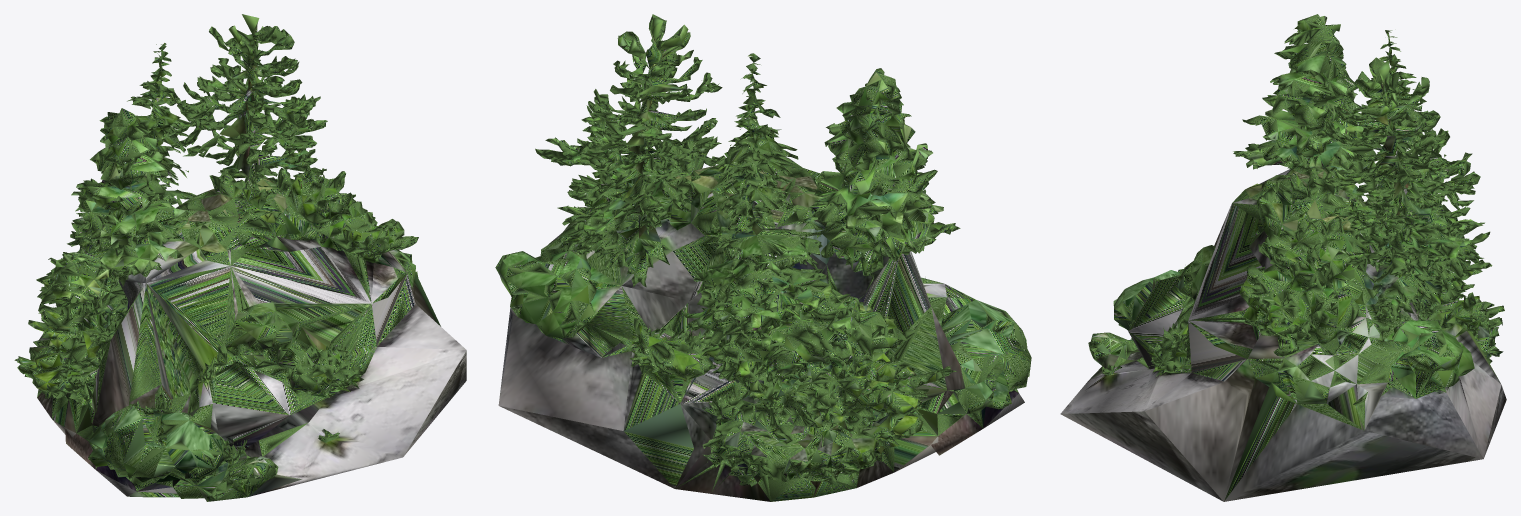
The model's file is Pine_Trees_on_a_Rocky.glb.
3 views of the same model, side by side, from view 1: azimuth 30°, elevation 25°; view 2: azimuth 150°, elevation 25°; view 3: azimuth 270°, elevation 25° (orthographic). The views are drawn at different scales.
Parts seen in each view (by area): view 1: Pine_Trees_on_a_Rocky; view 2: Pine_Trees_on_a_Rocky; view 3: Pine_Trees_on_a_Rocky.
Part boxes in pixels (x1=…): Pine_Trees_on_a_Rocky: x1=14, y1=14, x2=466, y2=501; Pine_Trees_on_a_Rocky: x1=495, y1=14, x2=1031, y2=501; Pine_Trees_on_a_Rocky: x1=1060, y1=14, x2=1506, y2=501.
Size of the model in its own units: 1.92 by 1.74 by 1.86.
Materials: 1 (1 with a texture image).
